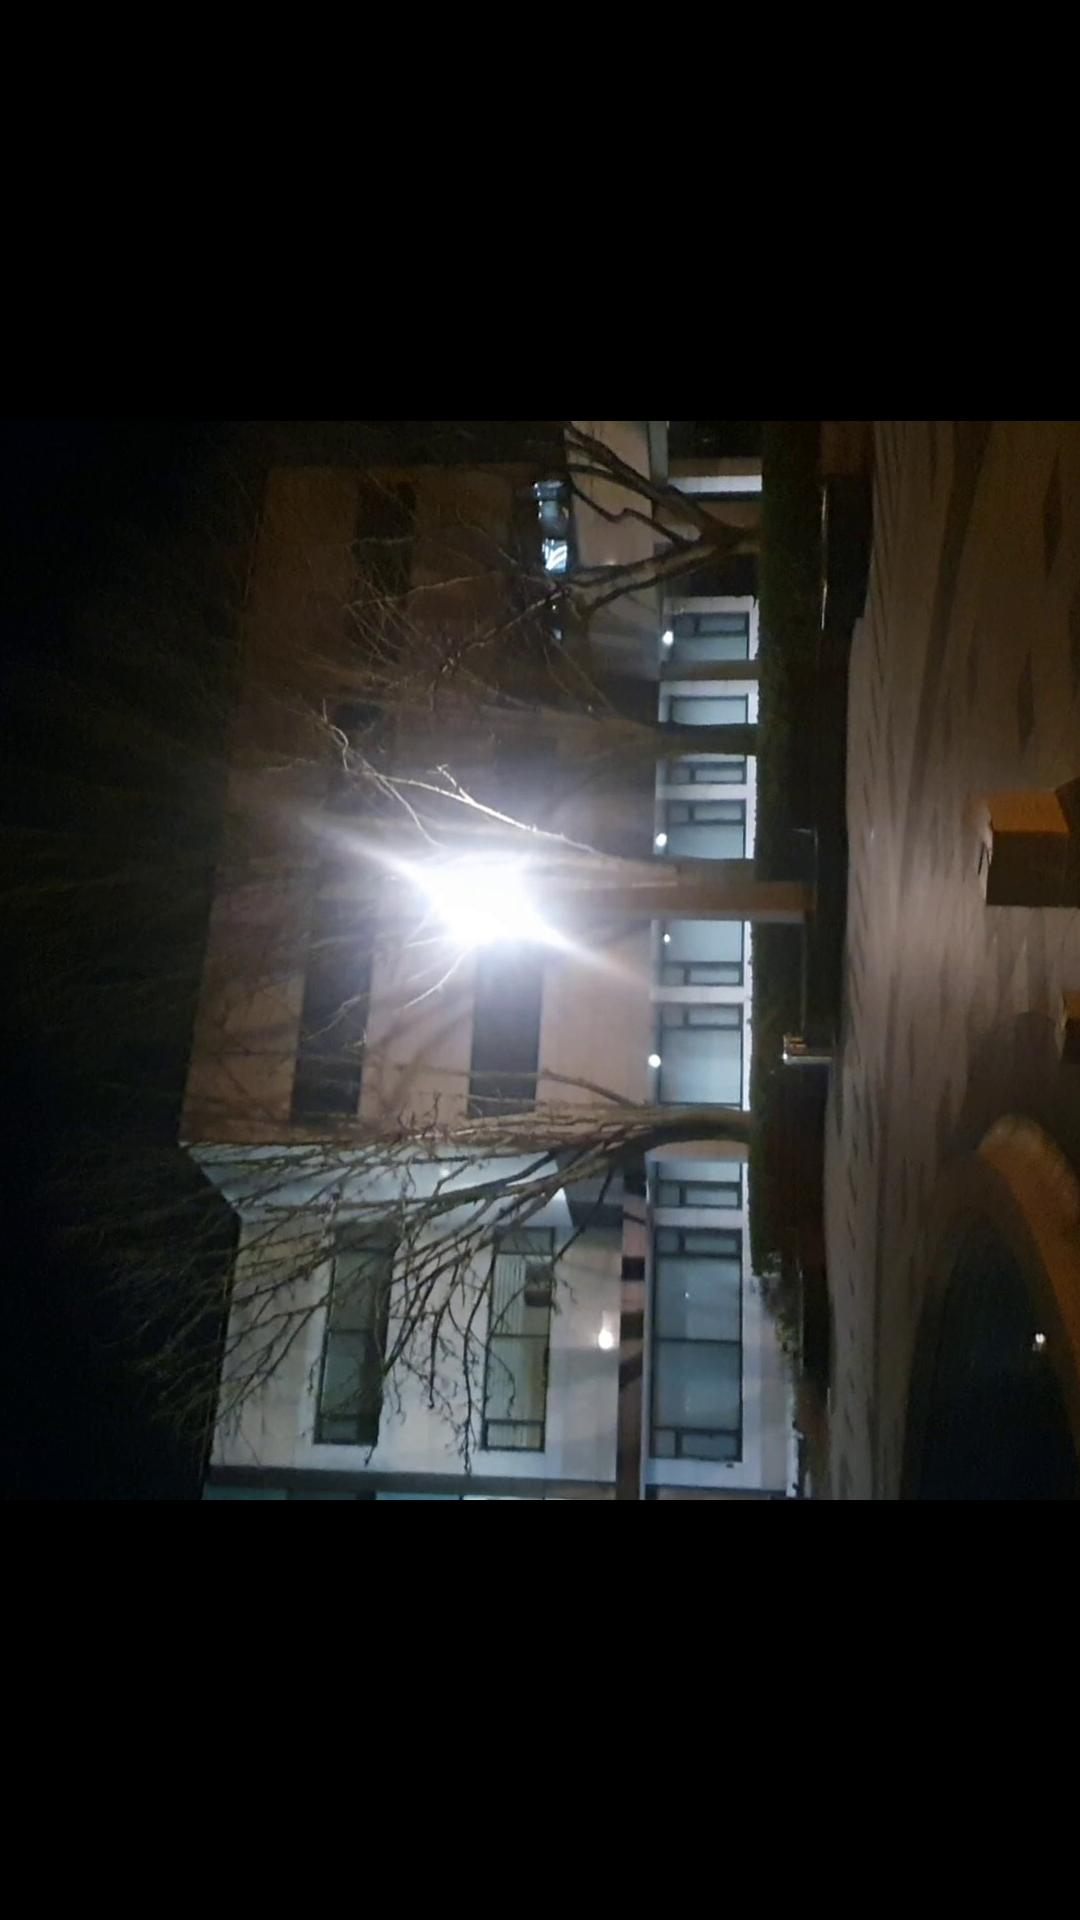Box: (978, 793, 1080, 914), (1050, 967, 1080, 1064)
